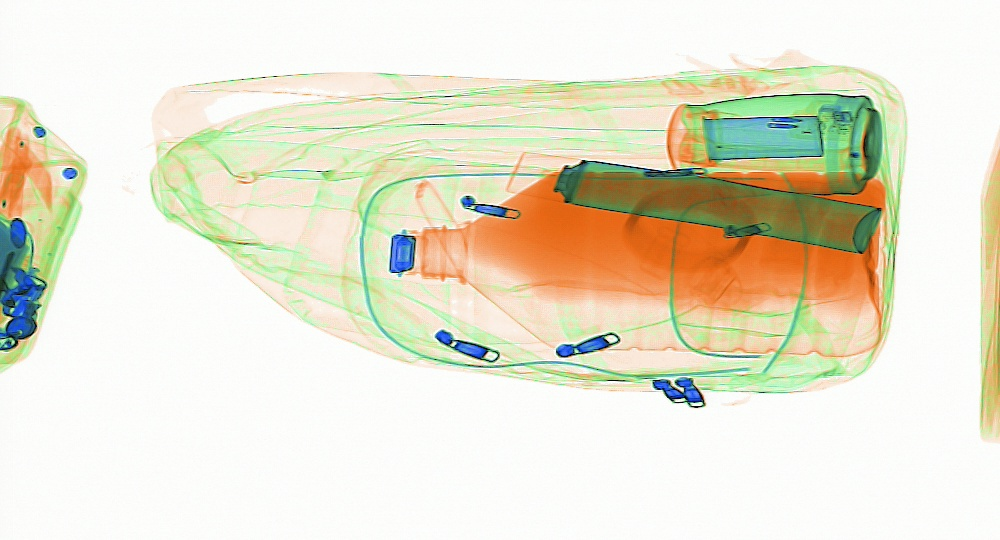pressure: (504, 148, 884, 255)
